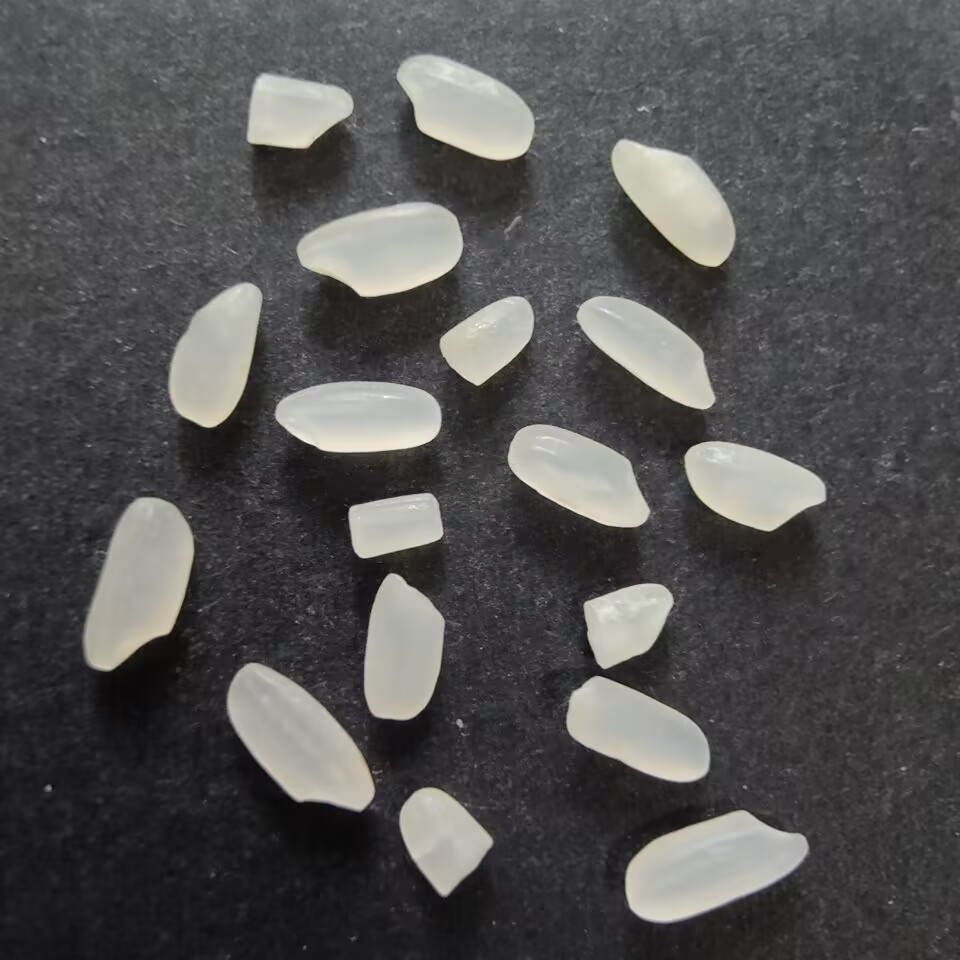broken: (395, 783, 495, 900), (242, 69, 357, 154), (435, 292, 536, 388), (580, 580, 682, 675), (346, 488, 448, 564)
rice: (223, 659, 380, 814), (623, 803, 810, 928), (83, 493, 195, 679), (609, 134, 739, 269), (294, 198, 465, 300), (560, 673, 713, 787), (572, 292, 715, 413), (504, 420, 653, 534), (393, 52, 534, 161), (167, 281, 265, 432), (269, 374, 442, 455), (682, 439, 826, 536), (357, 569, 448, 722)
